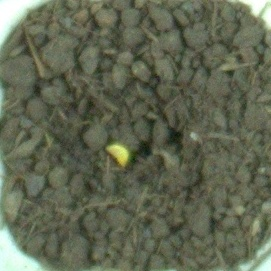pepper seed: (37, 59, 171, 227)
